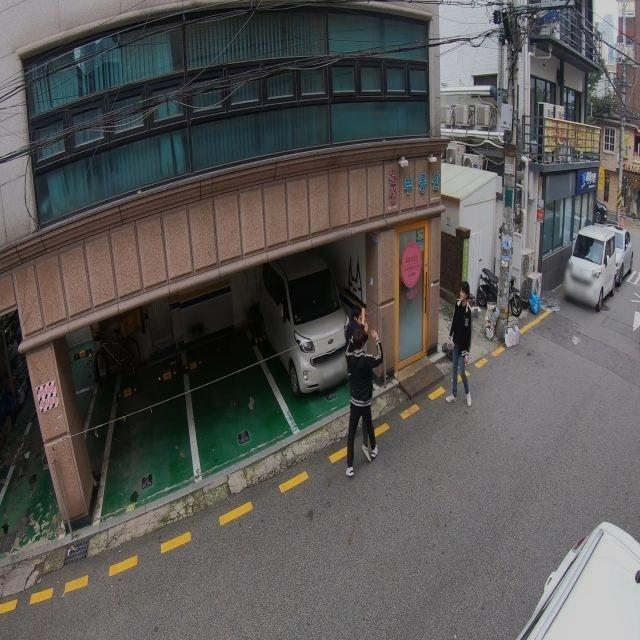fight: (340, 303, 381, 479)
non-fight: (445, 282, 474, 405)
